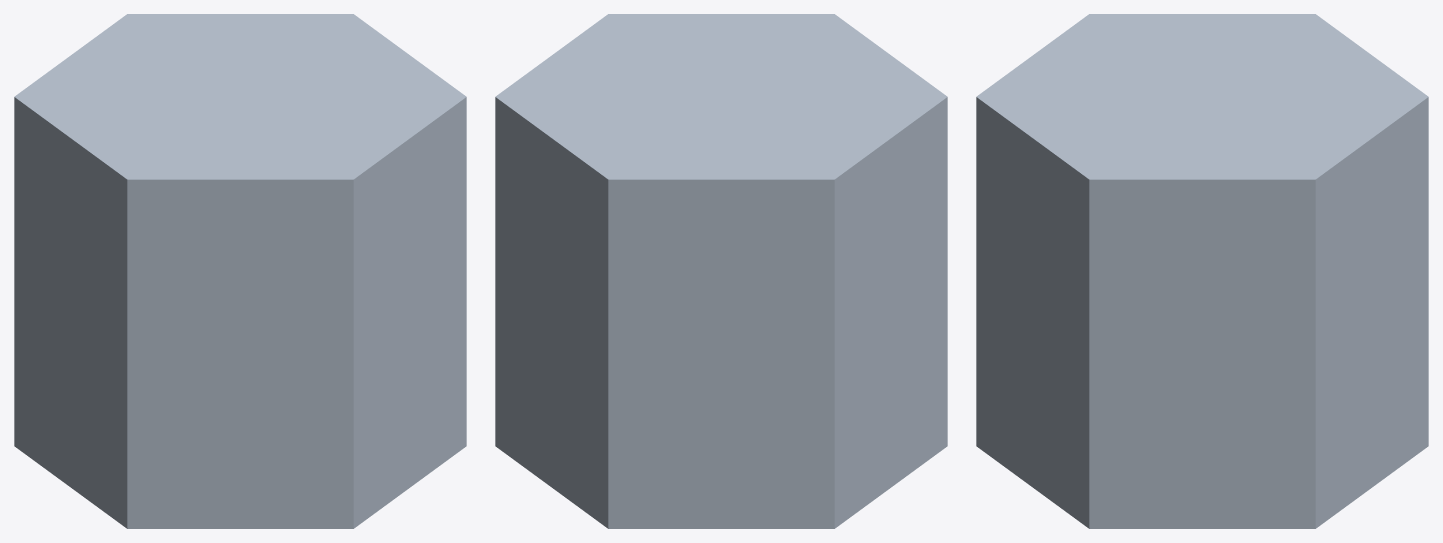
File: blender_3d_hexagonal_prism.glb
The picture shows the model from 3 angles, left to right: view 1: azimuth 30°, elevation 25°; view 2: azimuth 150°, elevation 25°; view 3: azimuth 270°, elevation 25°; orthographic projection.
Visible parts, largest first — view 1: Cylinder; view 2: Cylinder; view 3: Cylinder.
Part boxes in pixels (left/top/right/bottom): Cylinder: left=14, top=14, right=466, bottom=528; Cylinder: left=495, top=14, right=947, bottom=528; Cylinder: left=976, top=14, right=1428, bottom=528.
Bounding box in the file's own units: 2.34 × 2.3 × 2.7.
